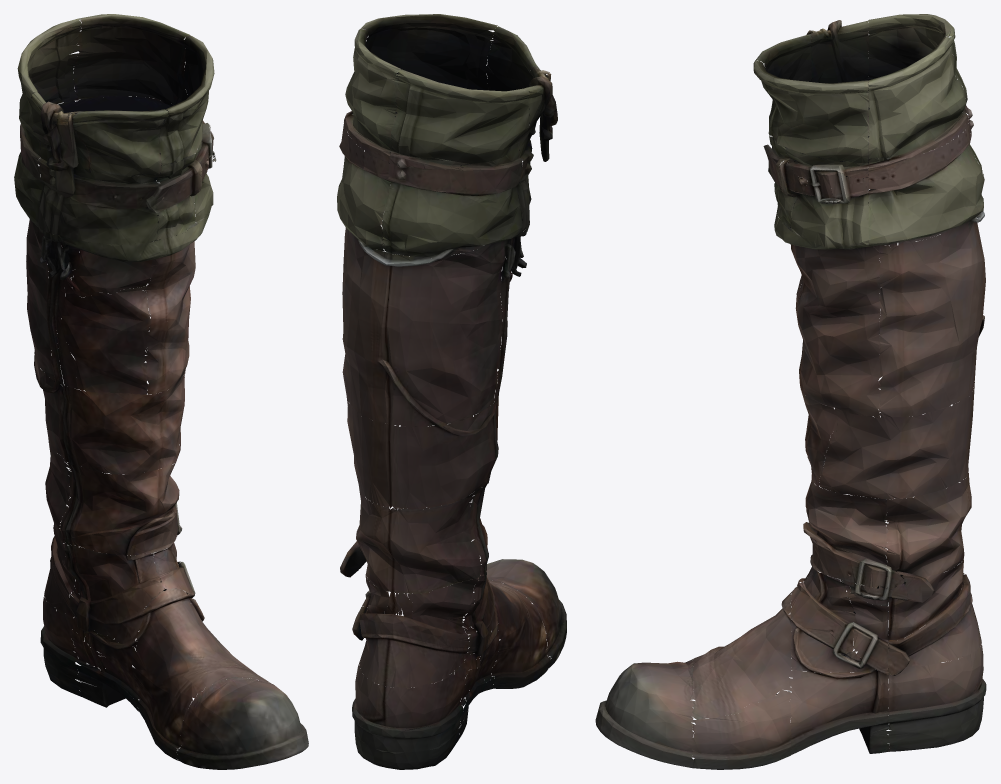
Rendered from a_ranger_boots_R.glb.
The picture shows the model from 3 angles, left to right: view 1: azimuth 30°, elevation 25°; view 2: azimuth 150°, elevation 25°; view 3: azimuth 270°, elevation 25°; orthographic projection. The views are drawn at different scales.
Parts seen in each view (by area): view 1: geometry_0.002; view 2: geometry_0.002; view 3: geometry_0.002.
Part boxes in pixels (x1,y1,x2,y2): geometry_0.002: [14, 14, 308, 769]; geometry_0.002: [337, 14, 566, 769]; geometry_0.002: [595, 14, 986, 769].
Bounding box in the file's own units: 0.1489 × 0.5 × 0.2552.
1 material, 1 textured.
